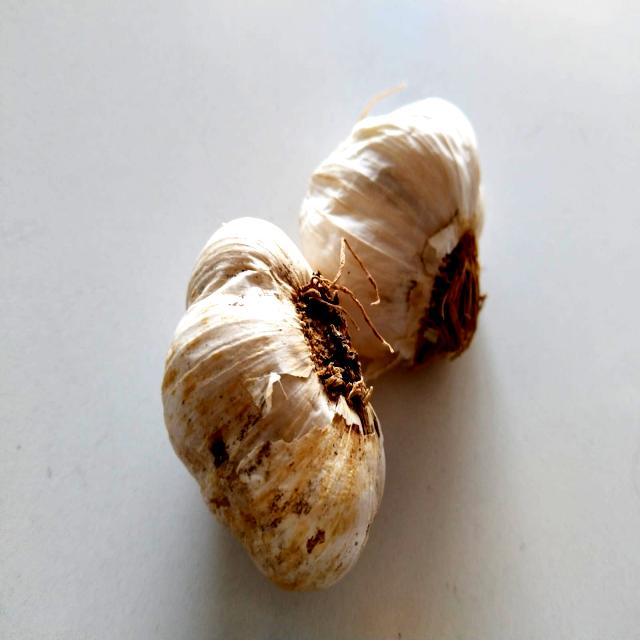garlic: (141, 199, 417, 601), (318, 87, 527, 378)
